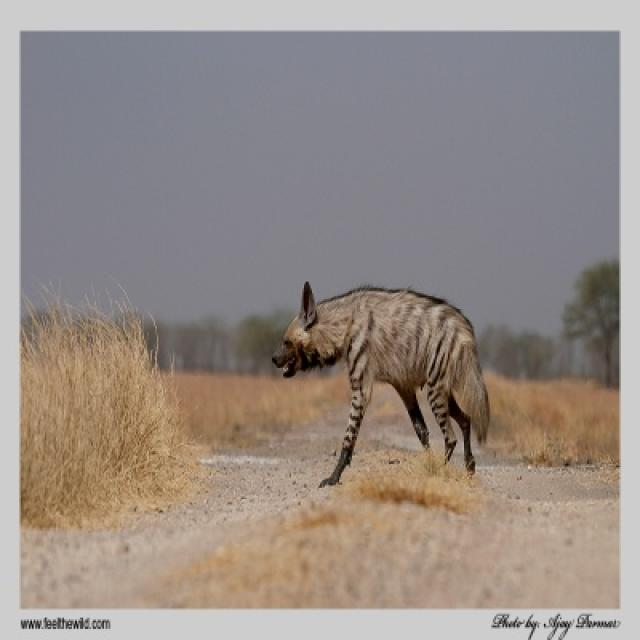hyena: (272, 285, 493, 488)
